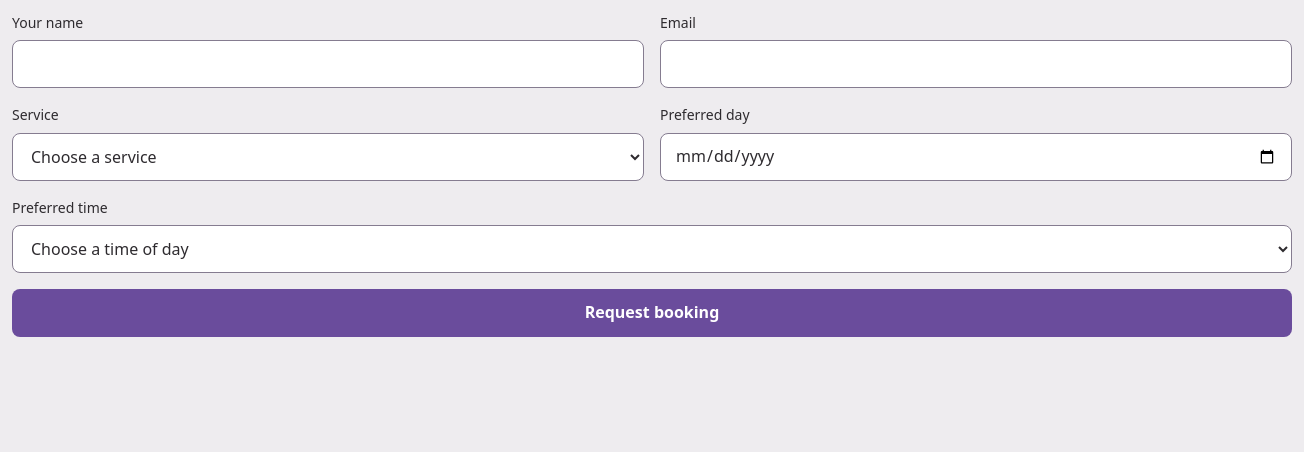
Test: BookingForm › shows each error next to its field and keeps what was typed
This screenshot has width=1304, height=452.
Type "Alex Rivera" into the field labelled "Your name" at (328, 64), box [12,40,644,88]
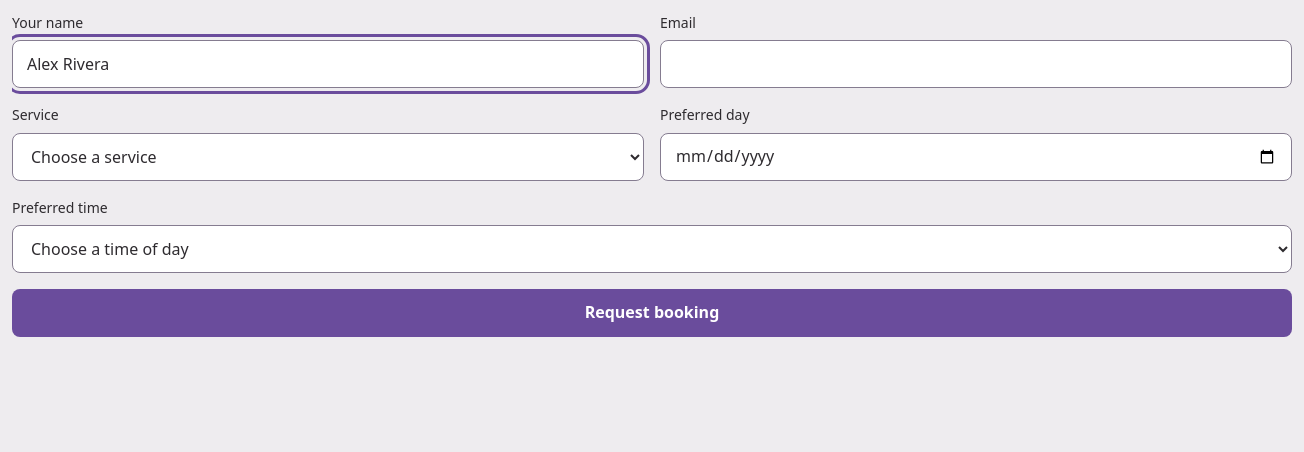
Type "alex@example.com" into the field labelled "Email" at (976, 64), box [660,40,1292,88]
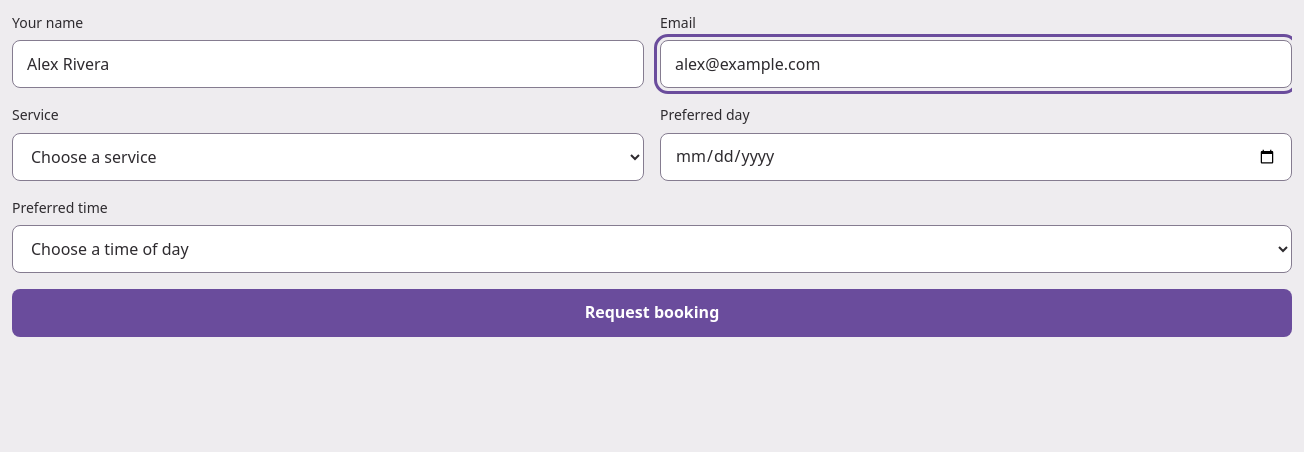
Select "Cut and finish ($55)" in the dropdown labelled "Service" at (328, 157), box [12,133,644,181]
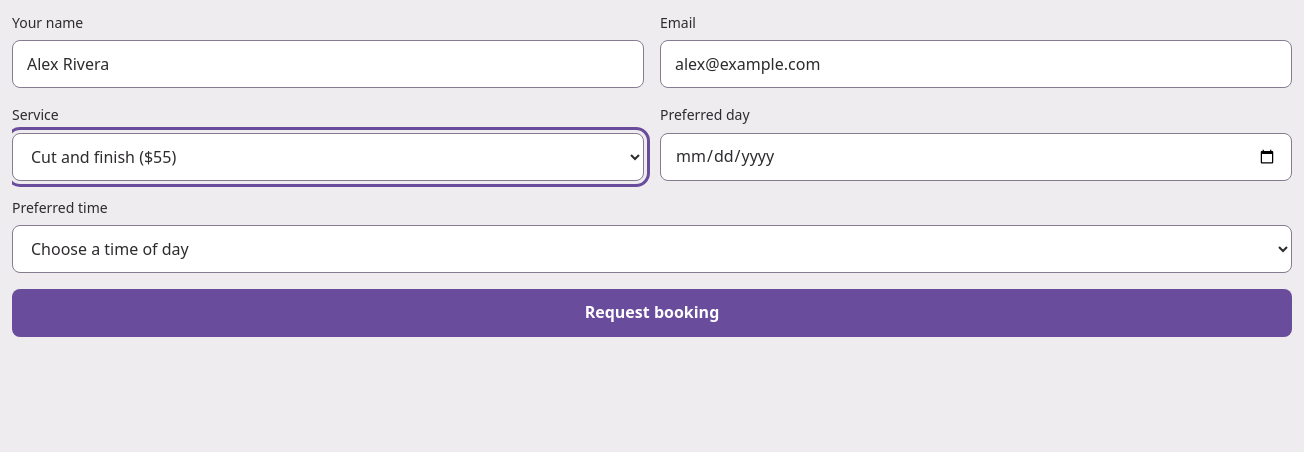
Type "2026-12-02" into the date field labelled "Preferred day" at (976, 157), box [660,133,1292,181]
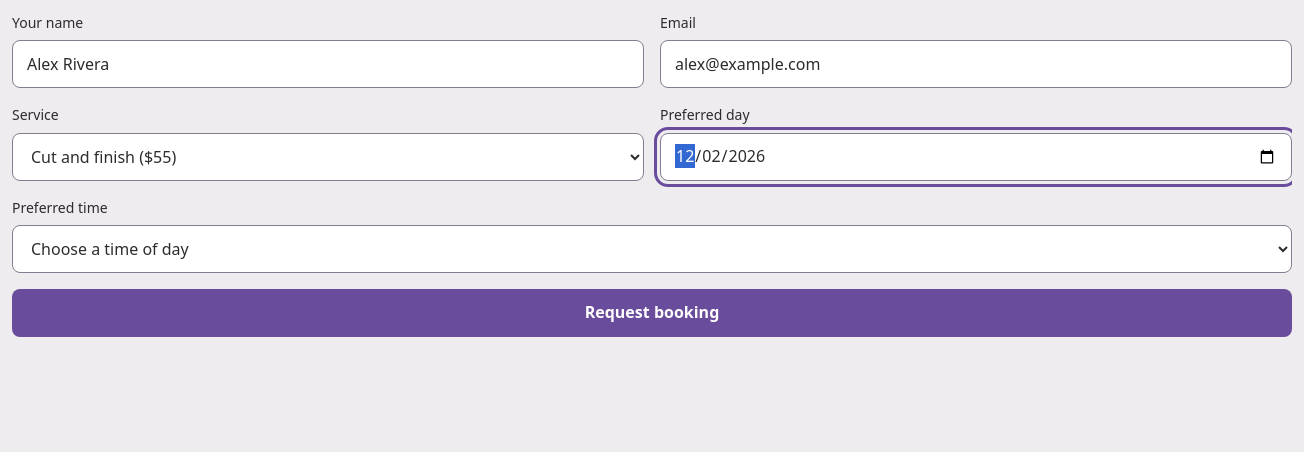
Select "Morning (9:00 to 12:00)" in the dropdown labelled "Preferred time" at (652, 249), box [12,225,1292,273]
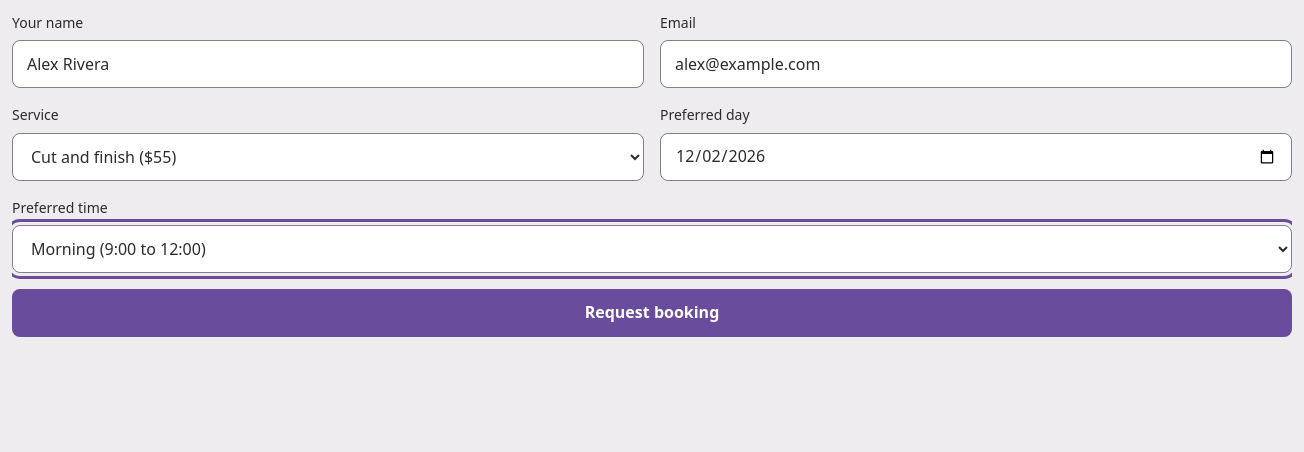
Click the button "Request booking" at (652, 313), box [12,289,1292,337]
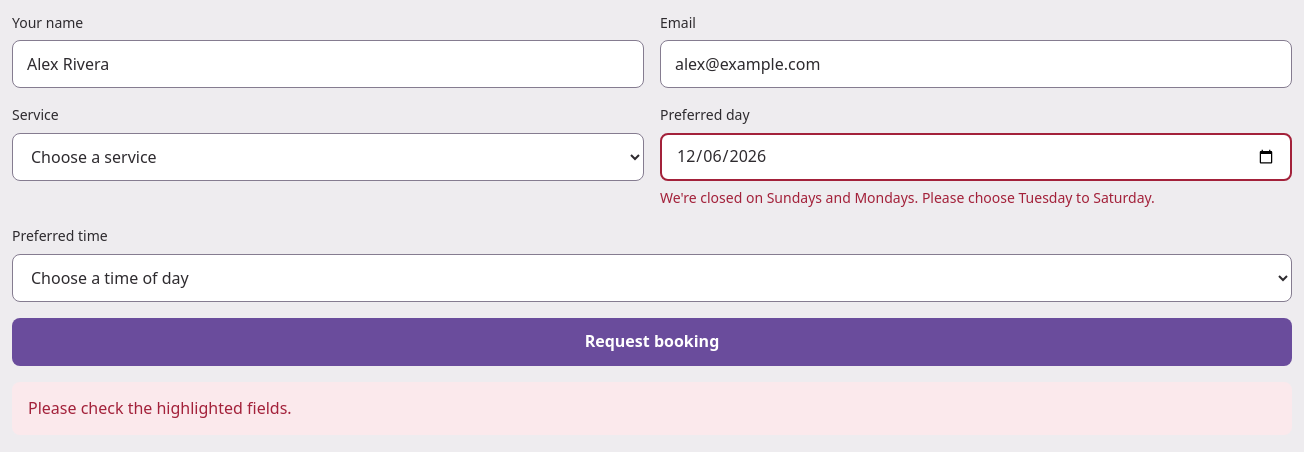
Result: the date field labelled "Preferred day" holds "2026-12-06" at [660,133,1292,181]
Result: the message reads "Please check the highlighted fields." at [28,397,292,419]
